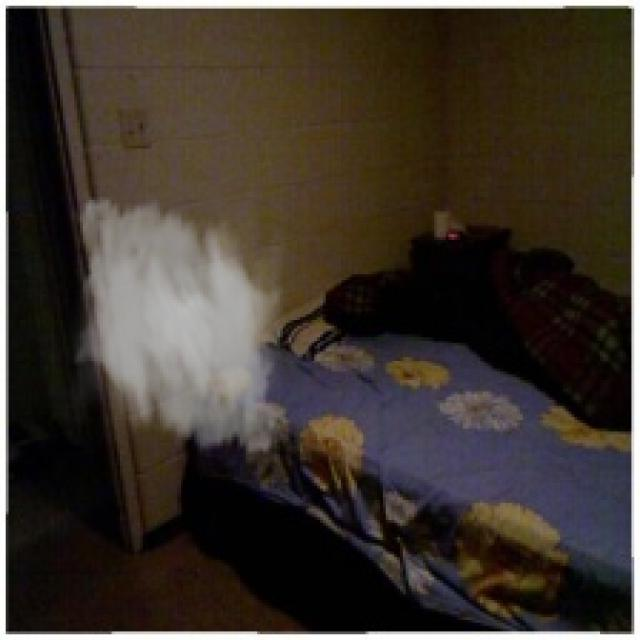smoke: (57, 185, 294, 466)
